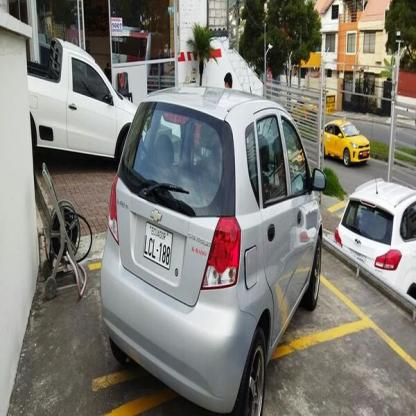Placa: (140, 222, 174, 269)
